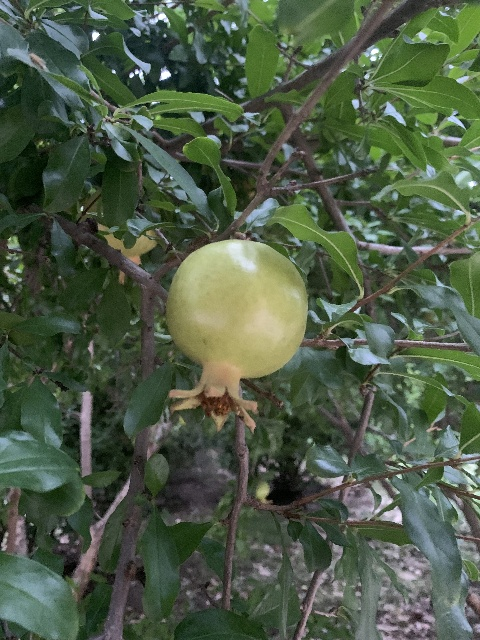mid-growth: (164, 238, 308, 435)
